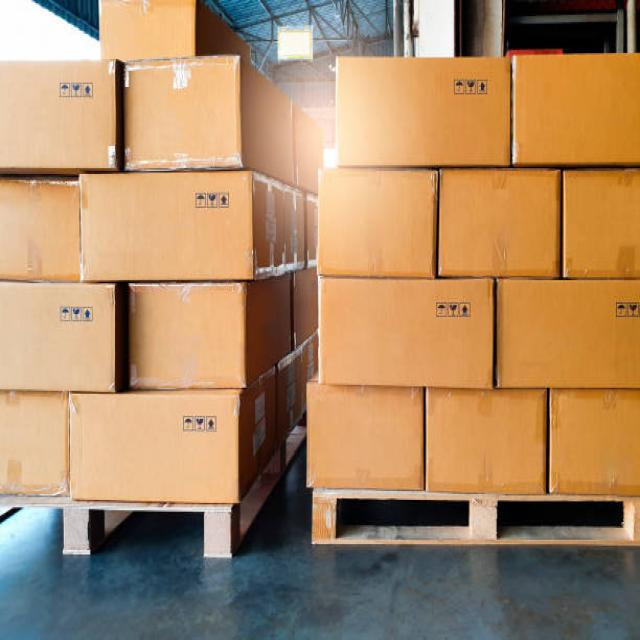Wooden-Pallets: (2, 414, 305, 565), (307, 490, 640, 553)
